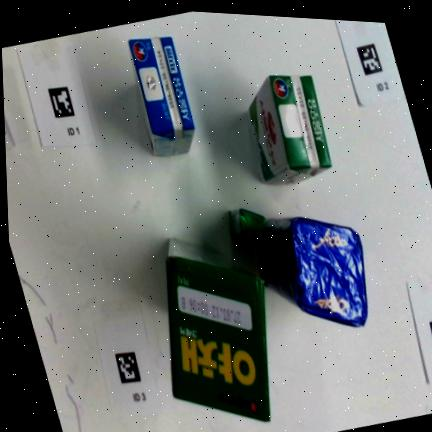cracker_ace: (259, 217, 367, 325)
cracker_vege: (165, 238, 269, 420)
gum_green: (229, 208, 266, 246)
milk_blue: (128, 37, 194, 155)
milk_green: (248, 75, 331, 183)
